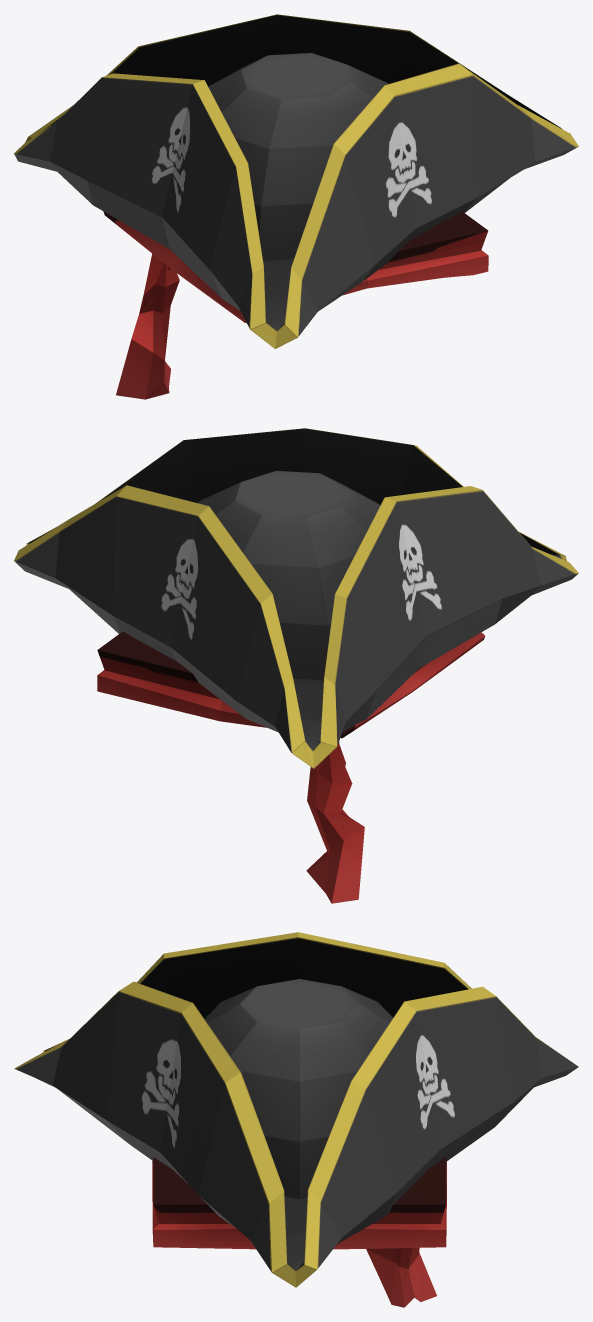
File: pirate_hat.glb
The picture shows the model from 3 angles, top to bottom: view 1: azimuth 30°, elevation 25°; view 2: azimuth 150°, elevation 25°; view 3: azimuth 270°, elevation 25°; orthographic projection. The views are drawn at different scales.
Visible parts, largest first — view 1: PirateHat_BandanaSquareFit; view 2: PirateHat_BandanaSquareFit; view 3: PirateHat_BandanaSquareFit.
Part boxes in pixels (bbox=[...]): PirateHat_BandanaSquareFit: bbox=[14, 14, 578, 399]; PirateHat_BandanaSquareFit: bbox=[14, 428, 578, 903]; PirateHat_BandanaSquareFit: bbox=[14, 932, 578, 1307].
Size of the model in its own units: 11.5 by 8.86 by 12.39.
Materials: 1 (1 with a texture image).
